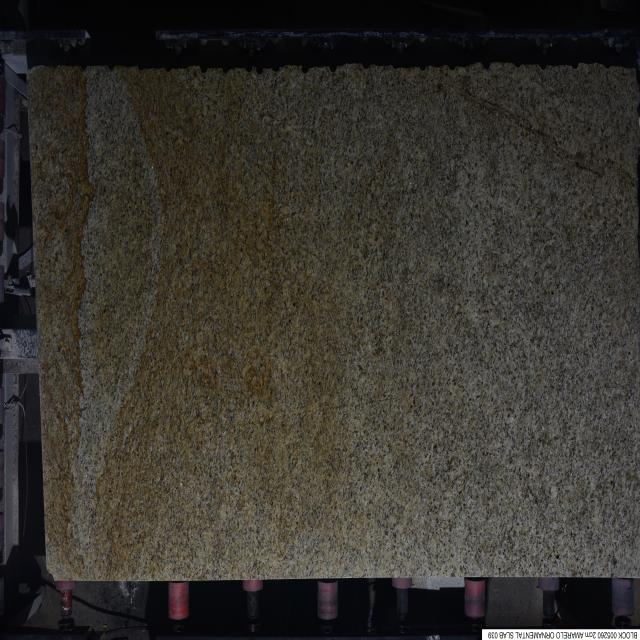chapa: (29, 62, 640, 580)
veio: (300, 60, 310, 74), (254, 63, 264, 76)
